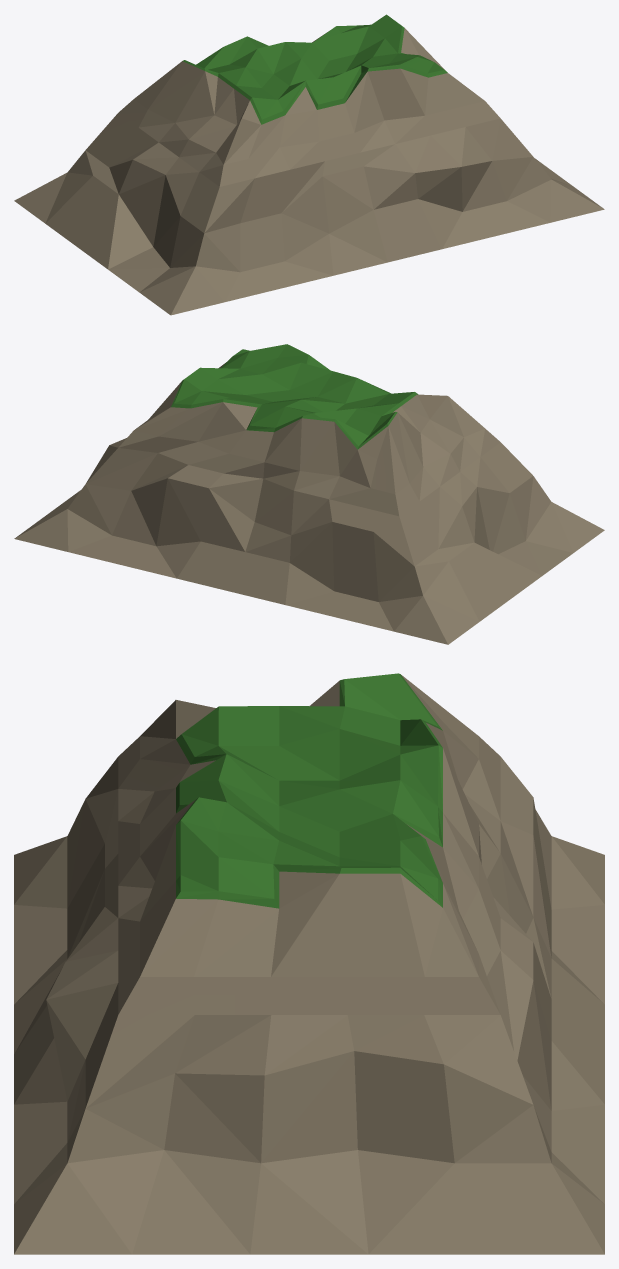
The model's file is Plateau_03.glb.
The picture shows the model from 3 angles, top to bottom: view 1: azimuth 30°, elevation 25°; view 2: azimuth 150°, elevation 25°; view 3: azimuth 270°, elevation 25°; orthographic projection. The views are drawn at different scales.
Parts seen in each view (by area): view 1: Plateau_temperate_climate_003; view 2: Plateau_temperate_climate_003; view 3: Plateau_temperate_climate_003.
Part boxes in pixels (left/top/right/bottom): Plateau_temperate_climate_003: left=14, top=14, right=604, bottom=315; Plateau_temperate_climate_003: left=14, top=344, right=604, bottom=644; Plateau_temperate_climate_003: left=14, top=673, right=604, bottom=1254.
Size of the model in its own units: 48.44 by 16.28 by 30.27.
Materials: 1 (1 with a texture image).
